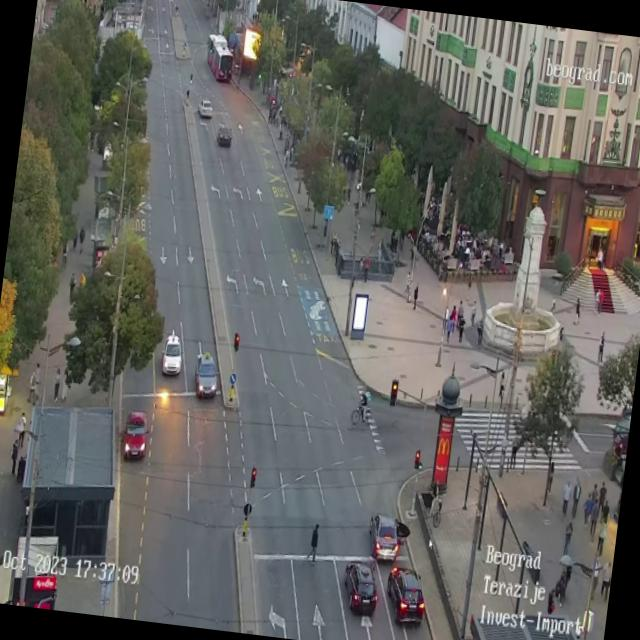bus: (202, 32, 236, 82)
car: (382, 563, 428, 623), (338, 557, 382, 616), (368, 510, 402, 563), (120, 408, 150, 462), (190, 350, 220, 400), (158, 330, 184, 377), (214, 121, 232, 148), (196, 98, 213, 119)
